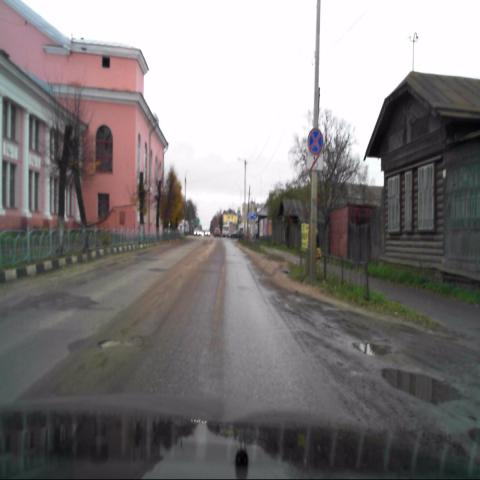8_18: (307, 155, 323, 170)
